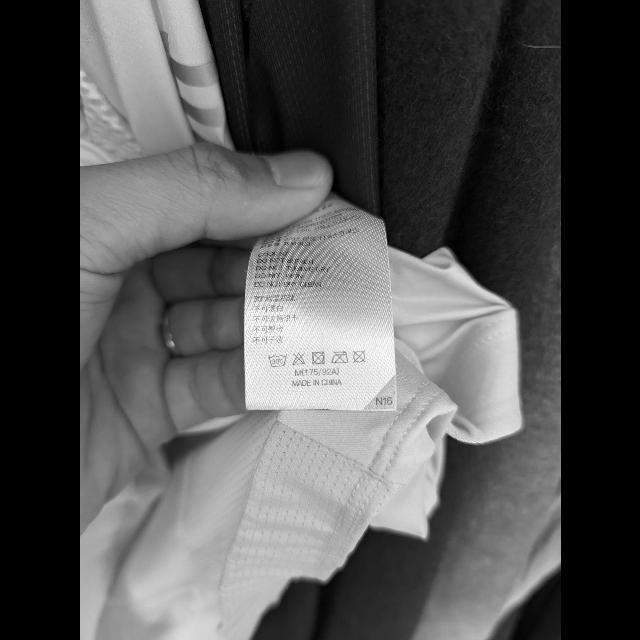30C: (266, 352, 288, 368)
DN_bleach: (290, 351, 306, 367)
DN_dry_clean: (351, 348, 367, 364)
DN_iron: (330, 350, 350, 364)
DN_tumble_dry: (310, 350, 326, 366)
